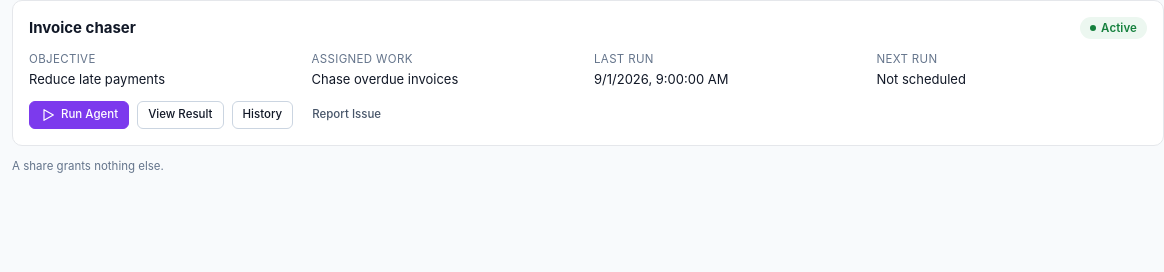
Scenario: MyEngineAgents › shows a failure reason rather than a result when the run failed
The image size is (1164, 272).
Click the button with test id "operator-view-result" at (180, 114), box [137,100,224,128]
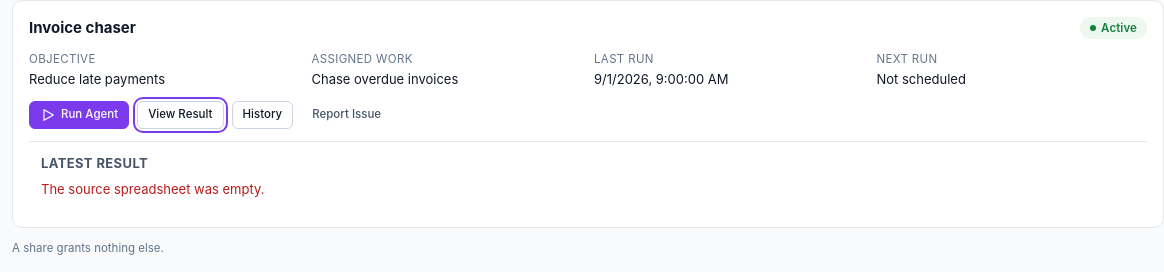
Expected: the element with test id "operator-result-panel" shows "The source spreadsheet was empty.", [41,181,264,197]
